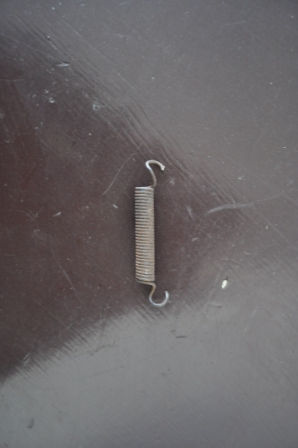METAL SPRING: (130, 157, 175, 310)
